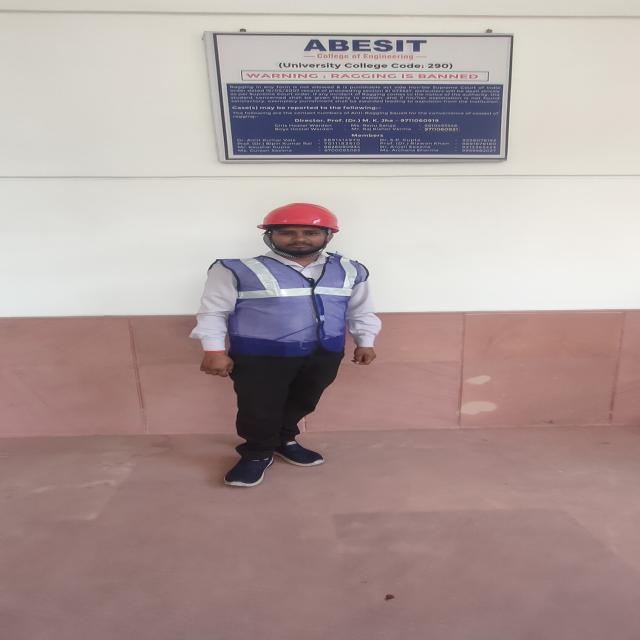safe: (198, 203, 381, 487)
